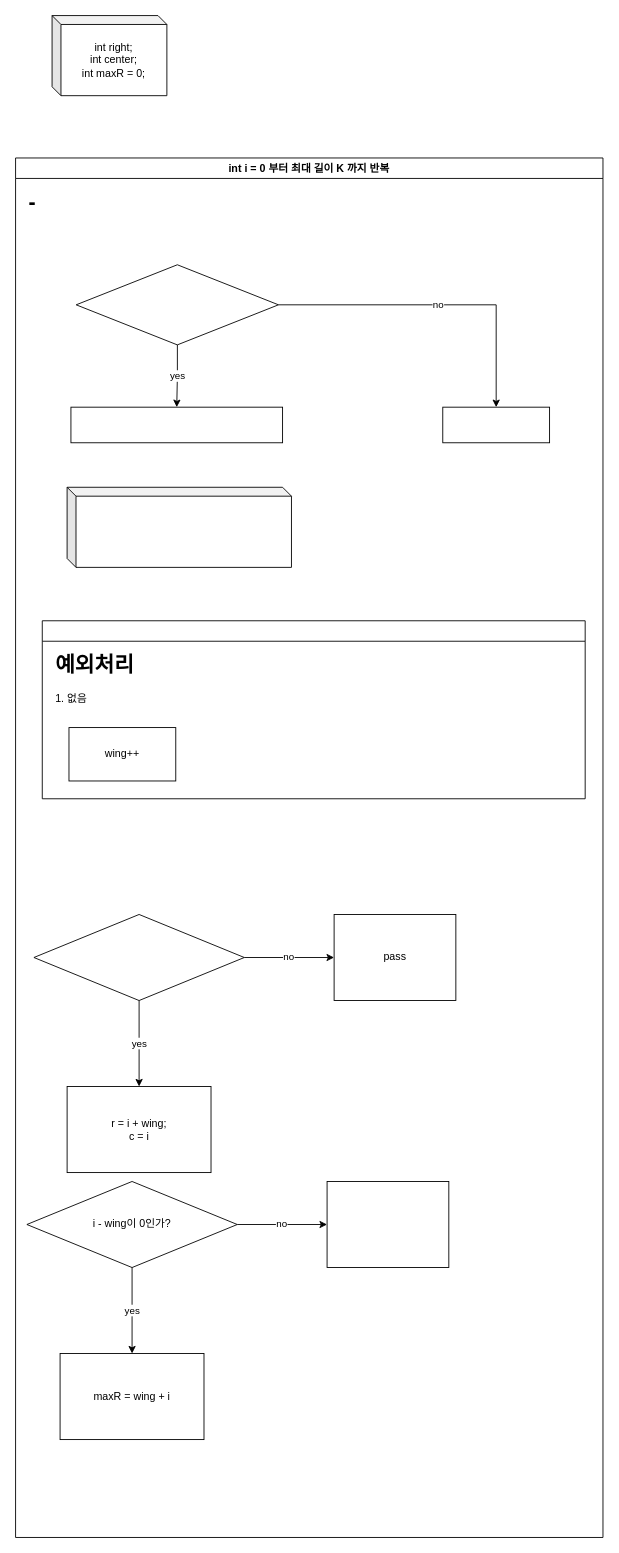
Some shapes in this 619 by 1553 pixel diagram are drawn without their labels. Each missing label, with the box of its shape:
i + wing < K이고 word[i + wing] == word[i - wing] 인동안: (41, 620, 585, 799)
i + wing이 r보다 큰가?: (33, 914, 244, 1001)
int wing = palin[i]: (66, 486, 291, 567)
right이 i보다 큰가? 이미 최대 팰린드롬의 오른쪽이 나보다 큰가?: (75, 264, 278, 345)
